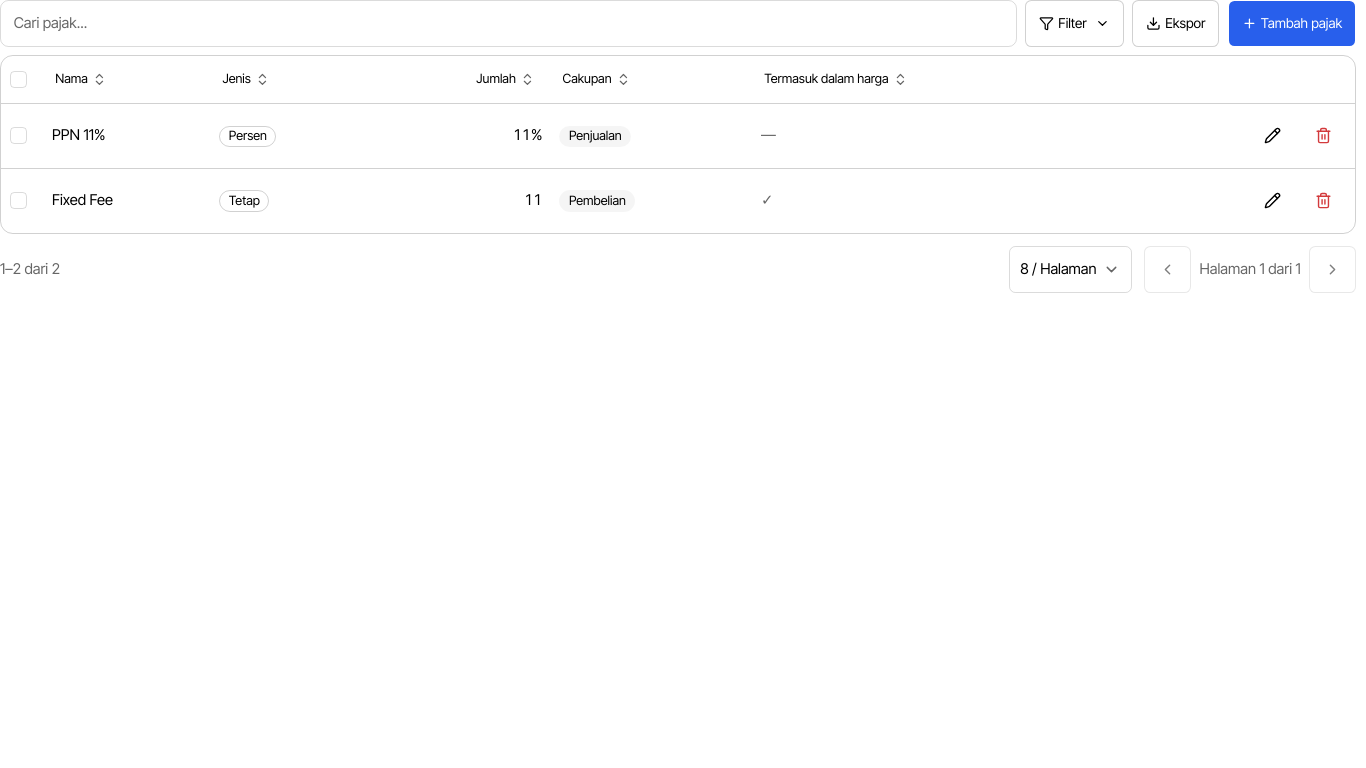
Test: TaxesSection extra2 › keeps save disabled without a name
Check: the text "PPN 11%" is shown, box [52,126,105,144]
Click the button "Tambah pajak" at coordinates (1292, 23), box [1228,0,1356,47]
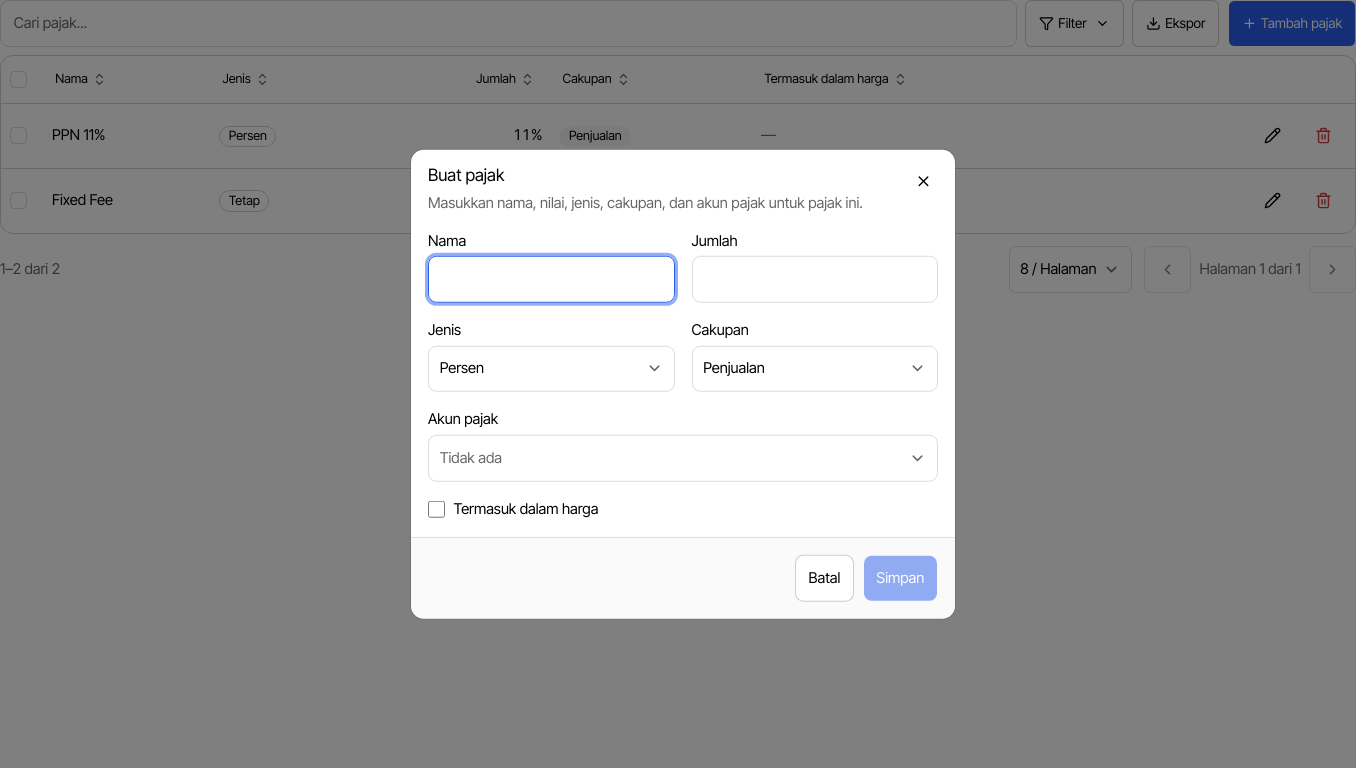
Check: the button "Simpan" is disabled, box [863,554,938,601]
